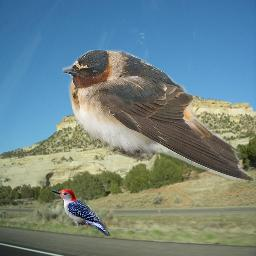Swallow: (62, 49, 255, 182)
Woodpecker: (50, 189, 111, 236)
